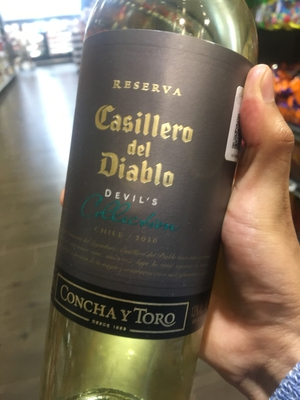casillero del diablo devils collection verde: (54, 9, 253, 400)
